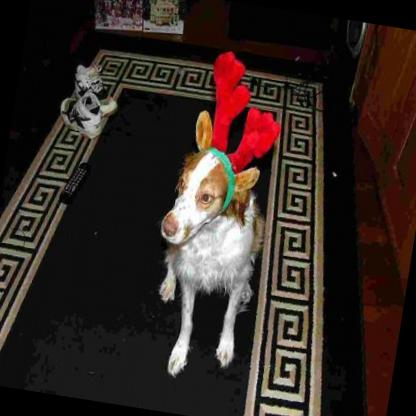Brittany_spaniel: (136, 103, 282, 386)
